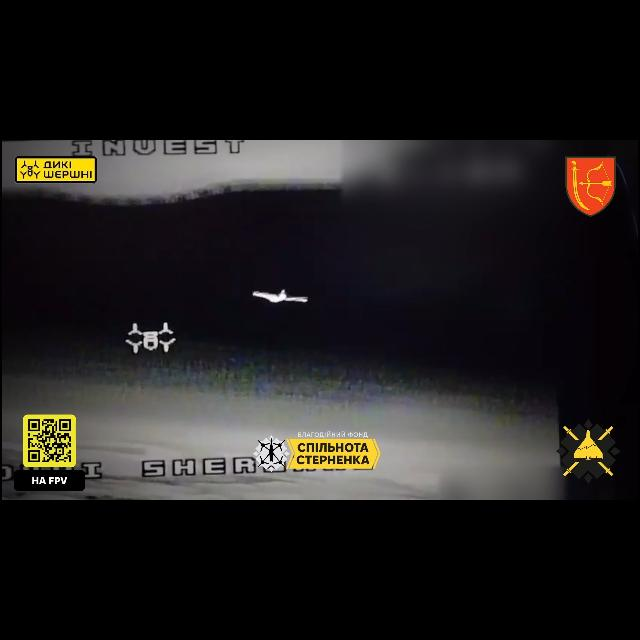Gerbera: (250, 288, 308, 304)
